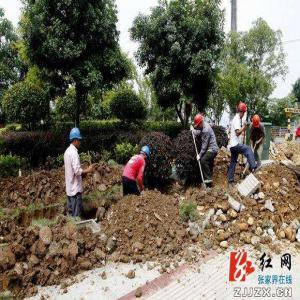blue: (69, 126, 82, 150), (139, 146, 151, 163)
red: (193, 113, 205, 132), (237, 103, 248, 121), (252, 113, 262, 130)
